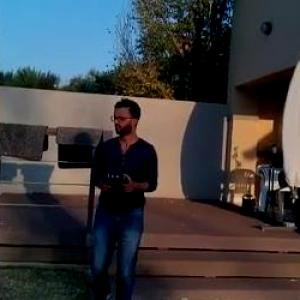follow: (82, 92, 160, 299)
